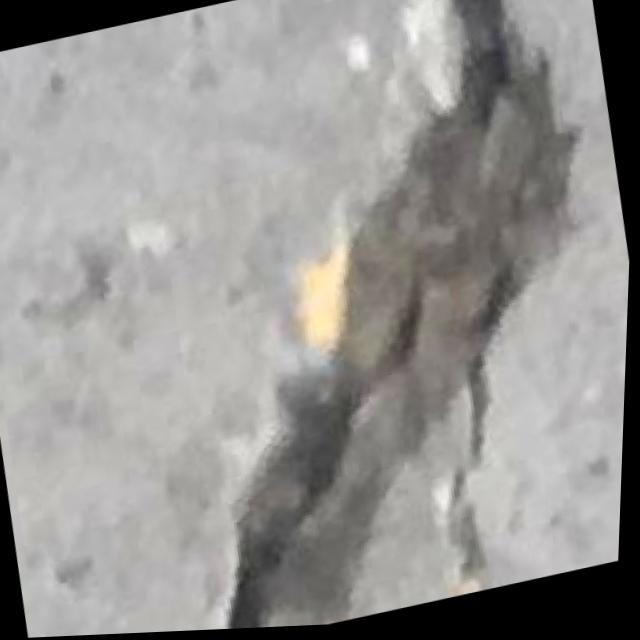Crack: (114, 0, 640, 635)
